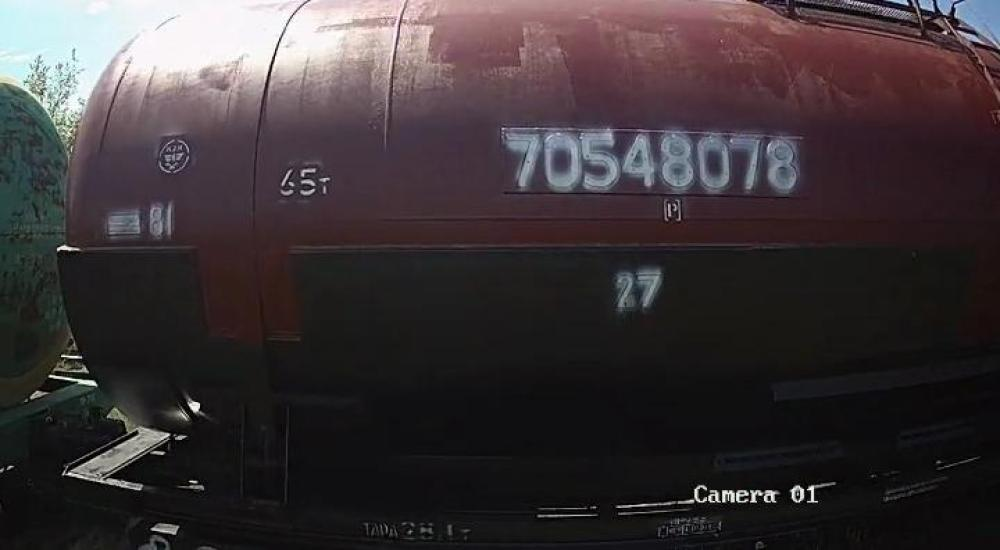Wagon-number: (503, 128, 799, 198)
